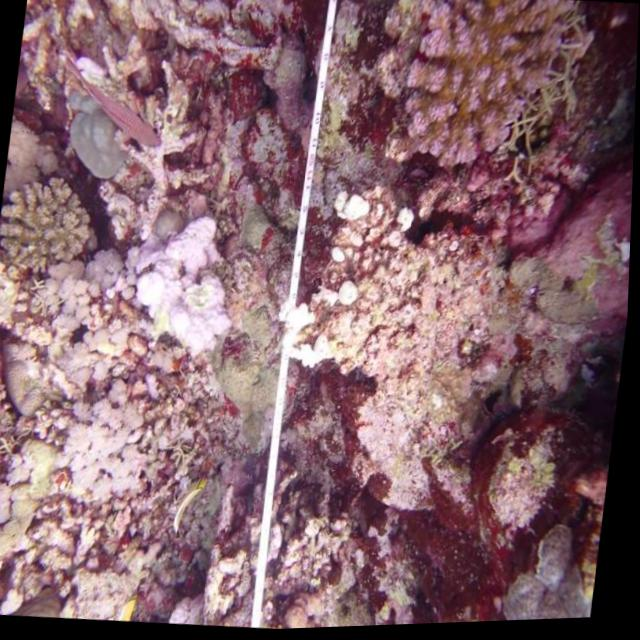Bleached Coral: (0, 363, 199, 601), (108, 192, 278, 369)
Healthy Coral: (383, 0, 576, 186), (0, 171, 101, 277)
